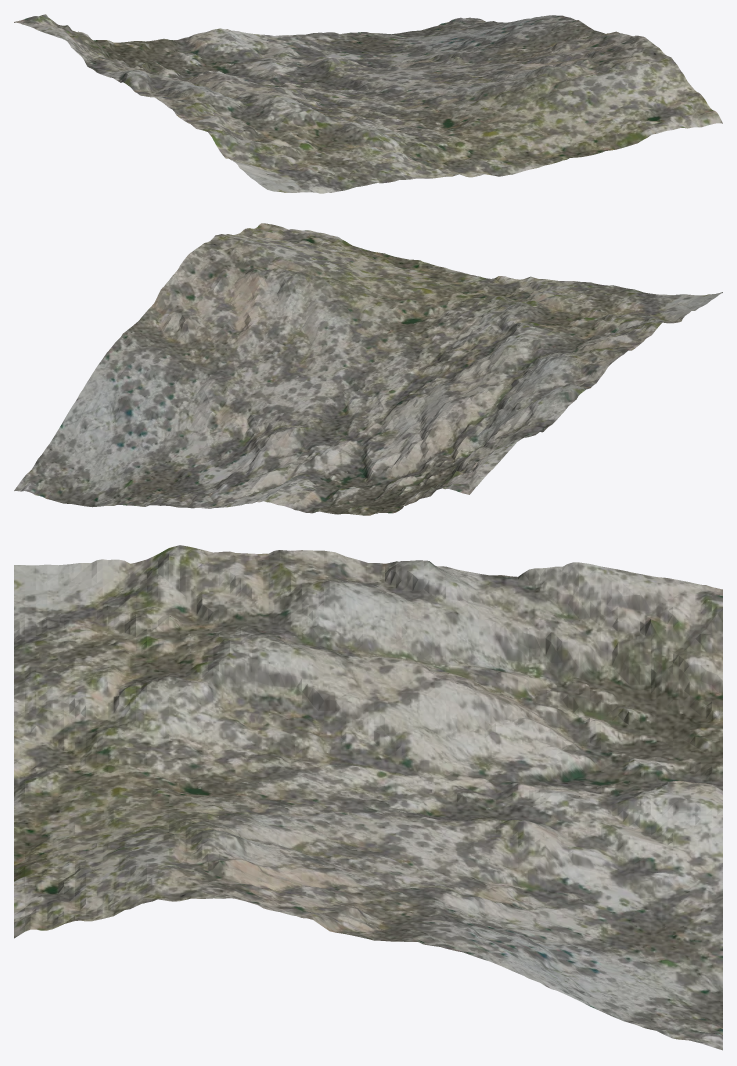
The picture shows the model from 3 angles, top to bottom: view 1: azimuth 30°, elevation 25°; view 2: azimuth 150°, elevation 25°; view 3: azimuth 270°, elevation 25°; orthographic projection. The views are drawn at different scales.
Bounding box in the file's own units: 500 × 147 × 481.
Materials: 1 (1 with a texture image).
